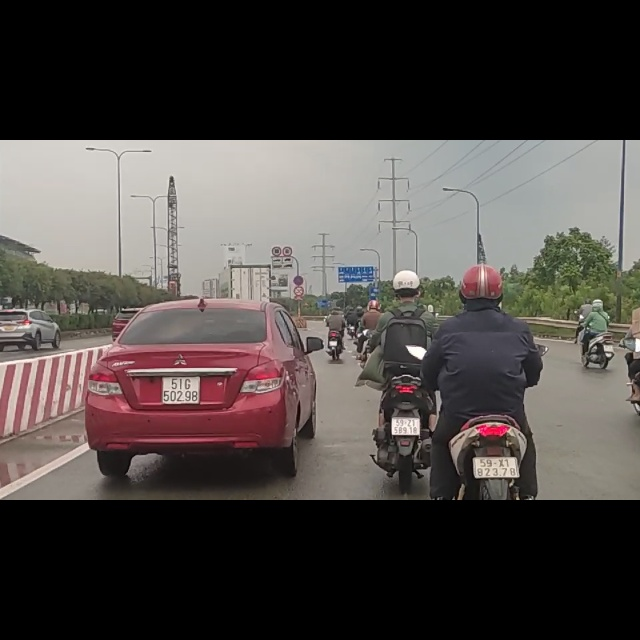bien_cam: (292, 240, 304, 258)
